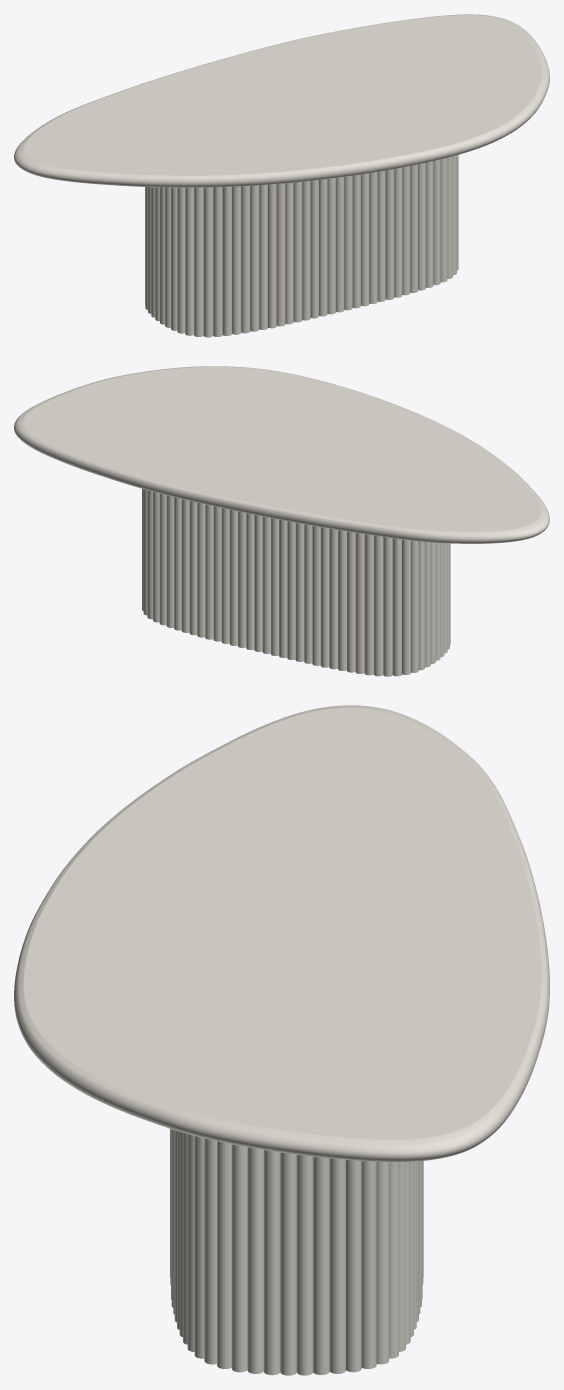
Rendered from pale_pebbletop_round_newtable.glb.
The picture shows the model from 3 angles, top to bottom: view 1: azimuth 30°, elevation 25°; view 2: azimuth 150°, elevation 25°; view 3: azimuth 270°, elevation 25°; orthographic projection. The views are drawn at different scales.
Visible parts, largest first — view 1: round_pebbletop, newtable; view 2: round_pebbletop, newtable; view 3: round_pebbletop, newtable.
Boxes of the visible parts, x1,y1,x2,y2 form: round_pebbletop: (14,14,549,187); newtable: (145,155,458,337); round_pebbletop: (14,366,549,543); newtable: (142,489,450,676); round_pebbletop: (14,705,549,1162); newtable: (170,1129,423,1375).
Size of the model in its own units: 7.5 by 2.51 by 3.8.
2 materials, 2 textured.
